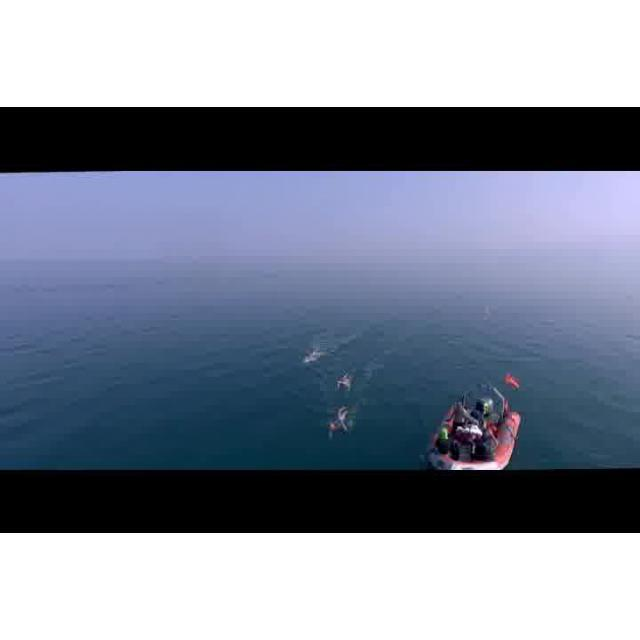human: (326, 402, 355, 443), (337, 370, 355, 394)
